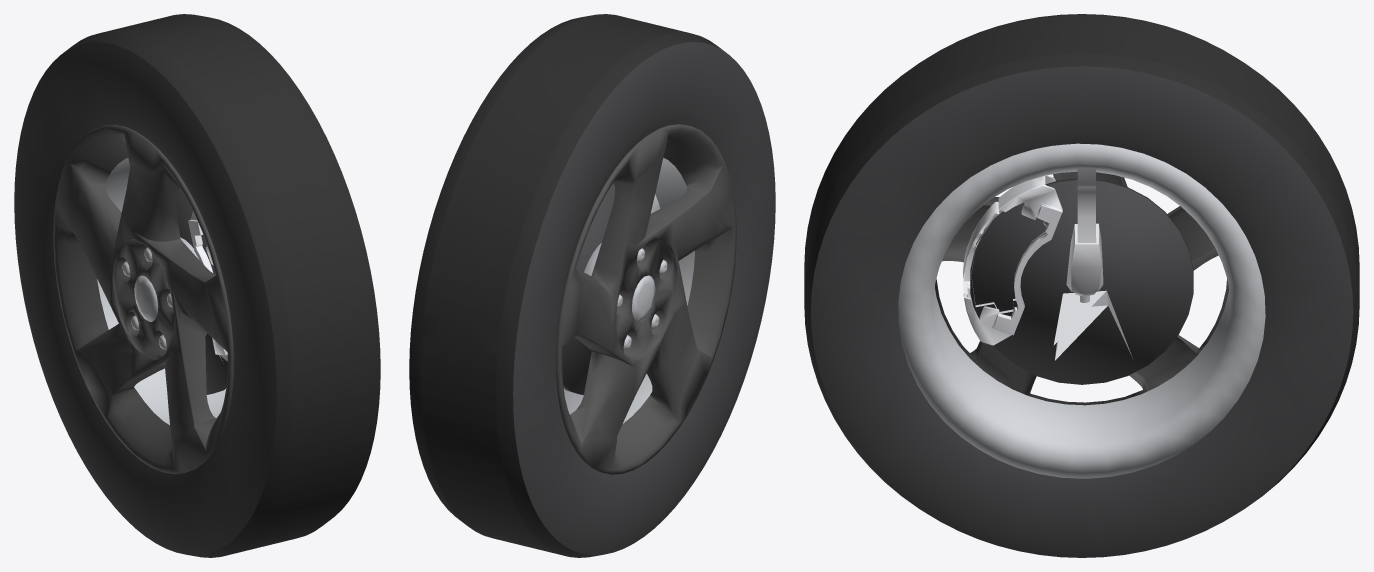
File: patrulla_wheelRR.glb
3 renders of one model, left to right at view 1: azimuth 30°, elevation 25°; view 2: azimuth 150°, elevation 25°; view 3: azimuth 270°, elevation 25°, orthographic. The views are drawn at different scales.
Visible parts, largest first — view 1: patrulla_wheelRR; view 2: patrulla_wheelRR; view 3: patrulla_wheelRR.
Boxes of the visible parts, x1,y1,x2,y2 form: patrulla_wheelRR: [14, 14, 380, 557]; patrulla_wheelRR: [409, 14, 775, 557]; patrulla_wheelRR: [804, 14, 1359, 557].
Bounding box in the file's own units: 0.2883 × 0.7438 × 0.7438.
Materials: 5 (1 with a texture image).
